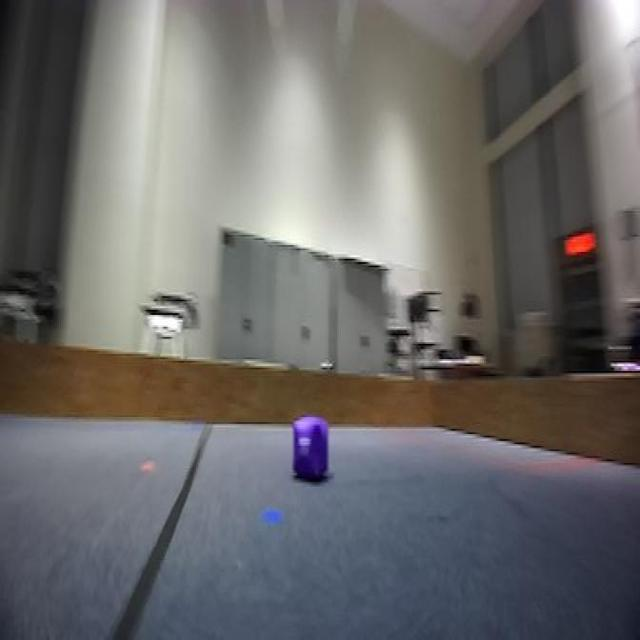frc_cube: (292, 422, 330, 487)
